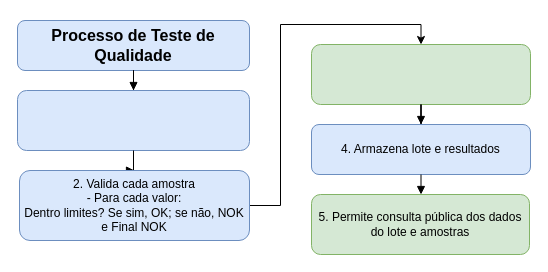
Image size: 548x272. Some labels were removed from this diagram. The shapes that lost their labels are listed below. From the top down, each one's box as (x1, y1, x2, y2) in pixels, then its label:
(310, 44, 530, 104): 3. Define resultado final do lote - Se alguma NOK, Final NOK - Senão, Final OK
(16, 90, 250, 150): 1. Recebe dados do lote - id, limites, valores, ordem produção, data, descrição
